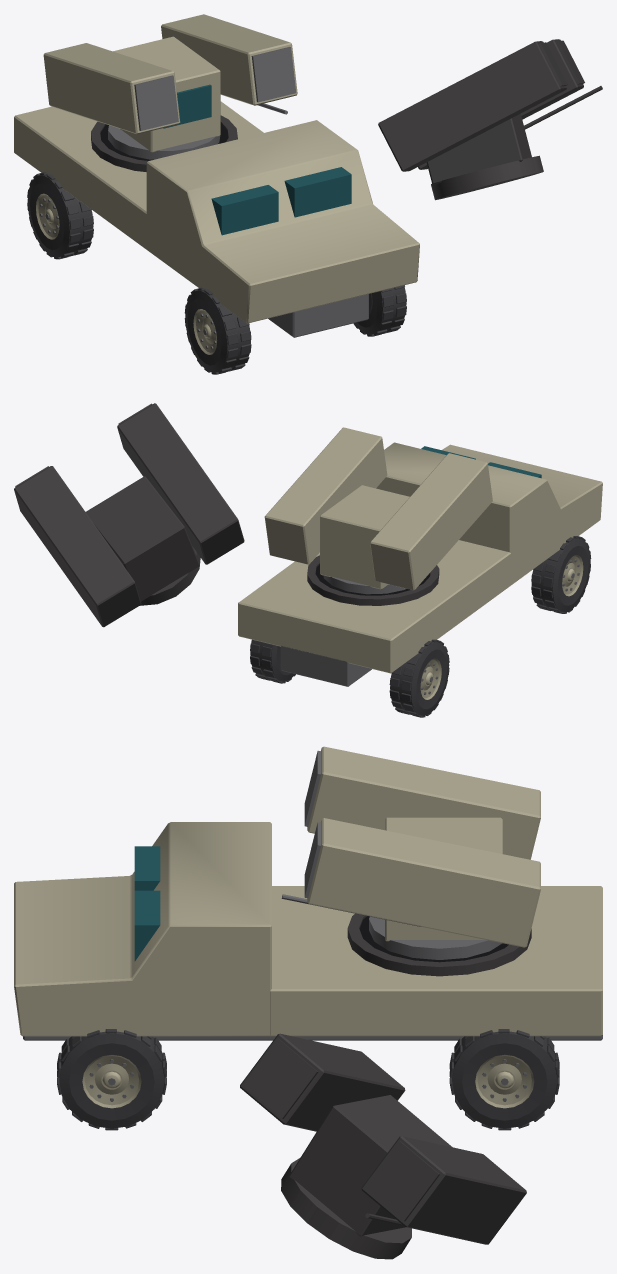
Rendered from aaVehicle__fennek_swp.glb.
3 views of the same model, one above another, from view 1: azimuth 30°, elevation 25°; view 2: azimuth 150°, elevation 25°; view 3: azimuth 270°, elevation 25° (orthographic). The views are drawn at different scales.
Visible parts, largest first — view 1: Hull_Mesh, Wreck, Gun_Mesh, Turret_Mesh, Wheel_L0_Mesh, Wheel_L1_Mesh, Wheel_R1_Mesh; view 2: Hull_Mesh, Wreck, Gun_Mesh, Turret_Mesh, Wheel_L1_Mesh, Wheel_L0_Mesh, Wheel_R0_Mesh; view 3: Hull_Mesh, Wreck, Gun_Mesh, Wheel_R0_Mesh, Wheel_R1_Mesh, Turret_Mesh.
Boxes of the visible parts, <box> form: Hull_Mesh: <box>14,101,419,337</box>; Wreck: <box>43,39,602,257</box>; Gun_Mesh: <box>43,14,297,134</box>; Turret_Mesh: <box>108,36,220,159</box>; Wheel_L0_Mesh: <box>27,172,93,259</box>; Wheel_L1_Mesh: <box>184,287,251,374</box>; Wheel_R1_Mesh: <box>353,285,406,336</box>; Hull_Mesh: <box>238,442,602,686</box>; Wreck: <box>14,403,575,711</box>; Gun_Mesh: <box>264,427,492,590</box>; Turret_Mesh: <box>320,485,409,594</box>; Wheel_L1_Mesh: <box>531,536,591,613</box>; Wheel_L0_Mesh: <box>389,639,449,717</box>; Wheel_R0_Mesh: <box>250,639,295,683</box>; Hull_Mesh: <box>14,822,602,1040</box>; Wreck: <box>240,913,531,1259</box>; Gun_Mesh: <box>281,746,540,947</box>; Wheel_R0_Mesh: <box>449,1029,559,1130</box>; Wheel_R1_Mesh: <box>57,1029,166,1130</box>; Turret_Mesh: <box>369,817,502,959</box>.
Size of what is drawn, in the model's own units: 6.31 by 2.72 by 5.16.
